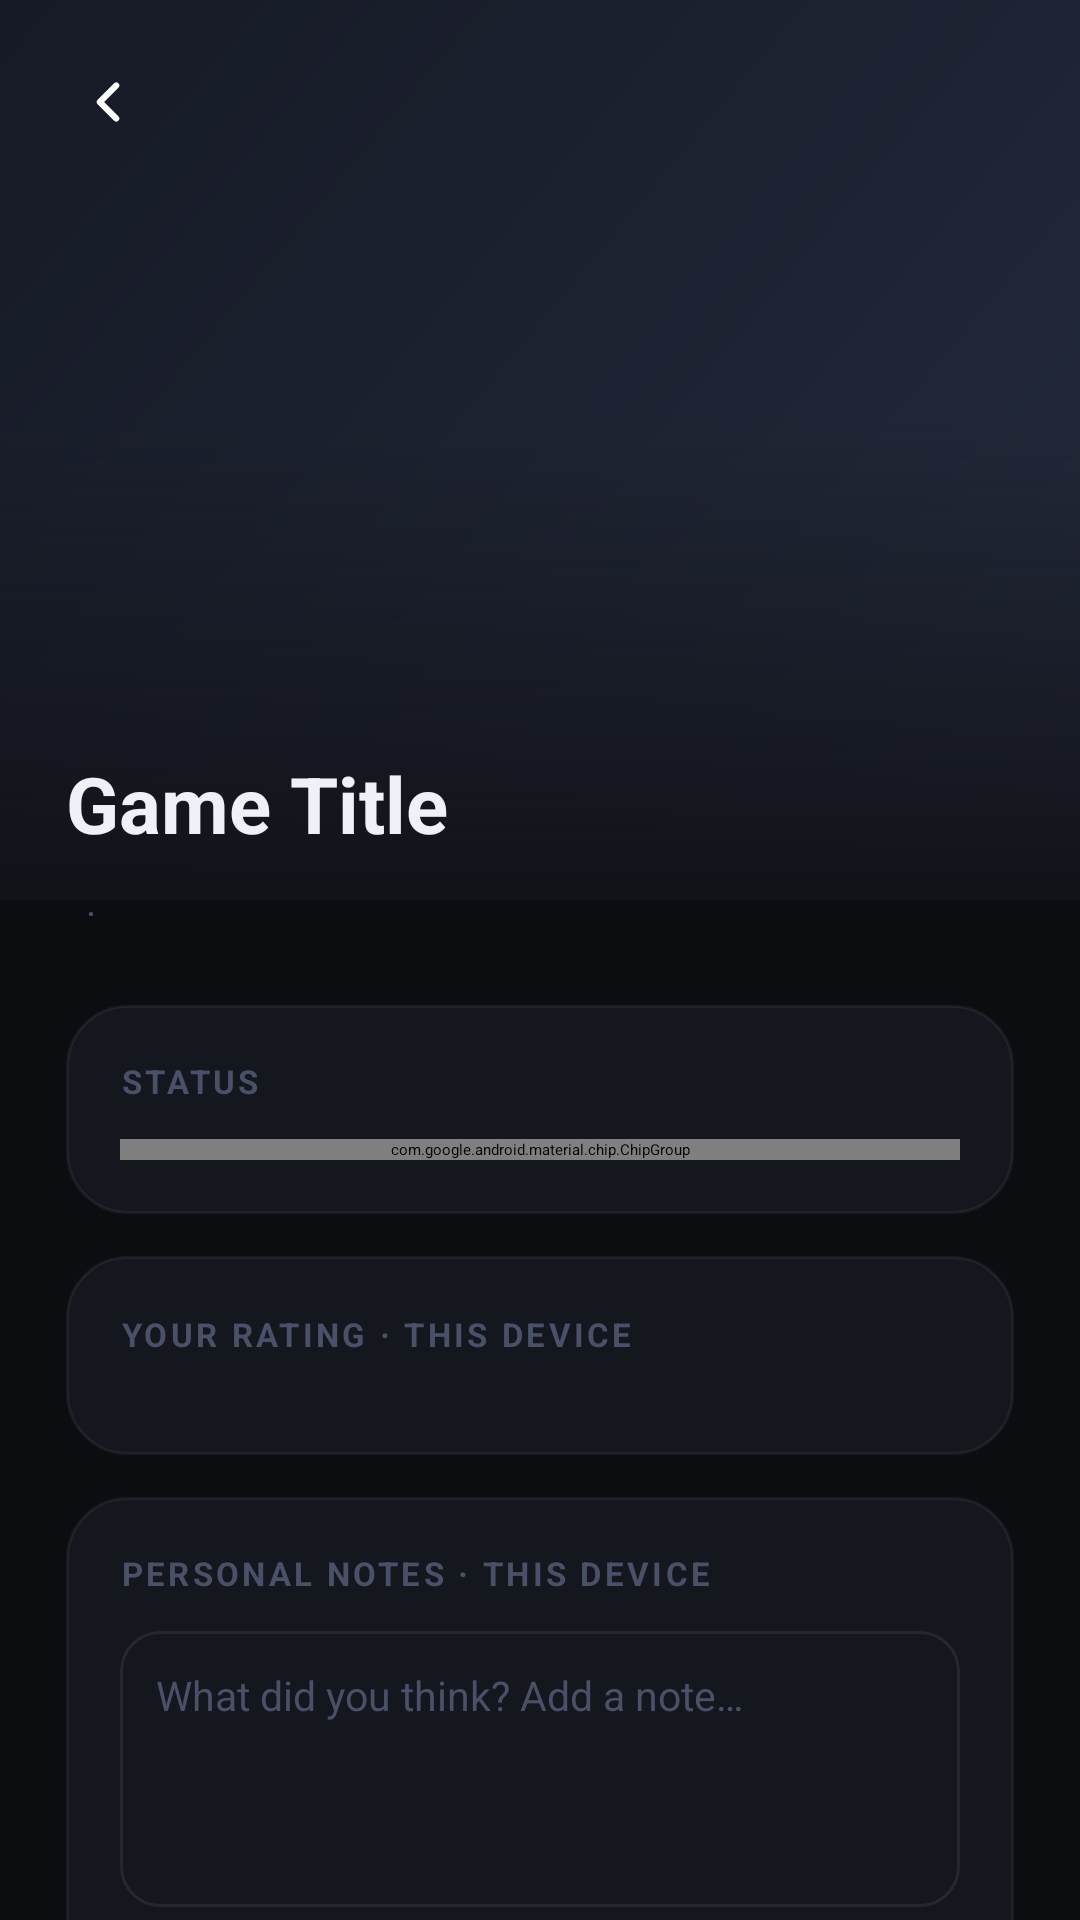

Named icons in this screenshot (1080px×1920px) and their bounding boxes, [left=x1, top=y1, right=x2, bottom=y2]:
Back: [left=96, top=82, right=120, bottom=122]
